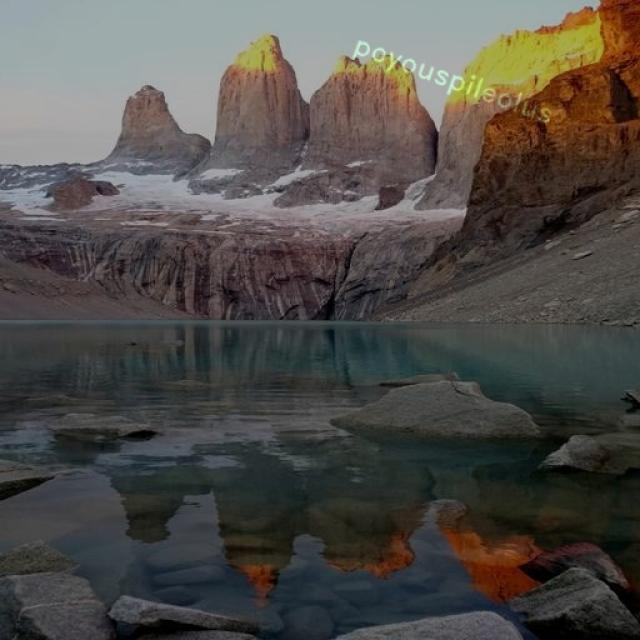watermark: (344, 30, 570, 129)
